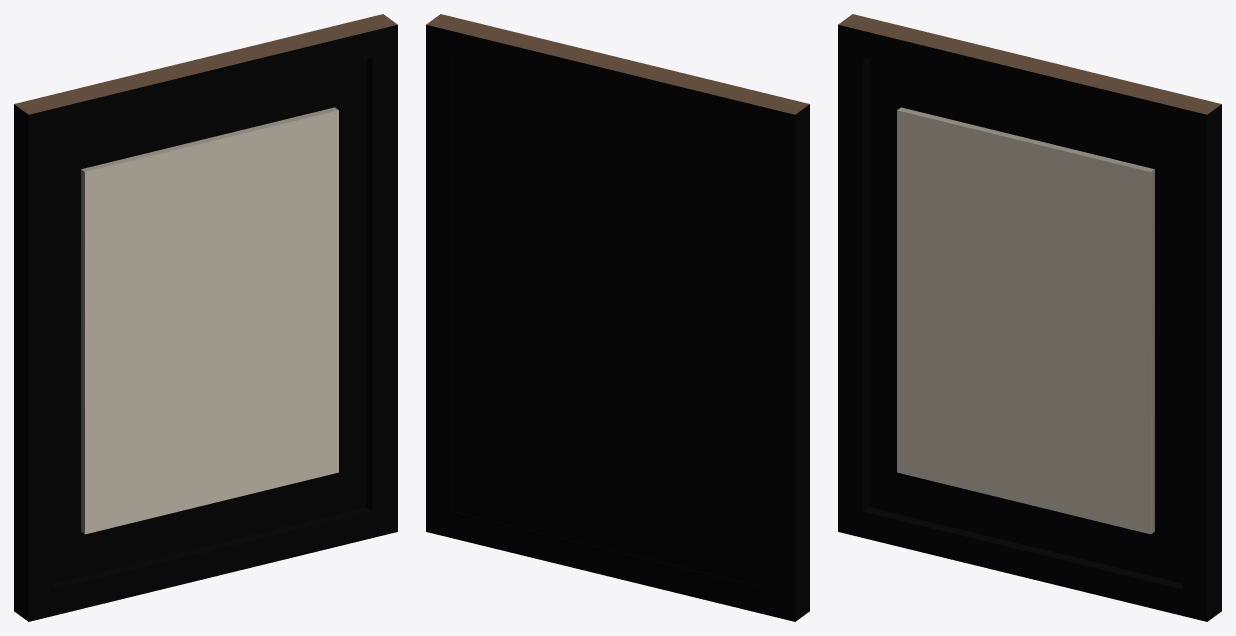
Rendered from picture_frame_a4.glb.
3 views of the same model, side by side, from view 1: azimuth 30°, elevation 25°; view 2: azimuth 150°, elevation 25°; view 3: azimuth 330°, elevation 25° (orthographic).
Visible parts, largest first — view 1: picture_frame_a4; view 2: picture_frame_a4; view 3: picture_frame_a4.
Part boxes in pixels (<box>): picture_frame_a4: <box>14,14,397,621</box>; picture_frame_a4: <box>426,14,809,621</box>; picture_frame_a4: <box>838,14,1221,621</box>.
Bounding box in the file's own units: 0.32 × 0.42 × 0.022.
